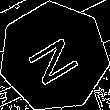N_NE: (22, 26, 86, 87)
